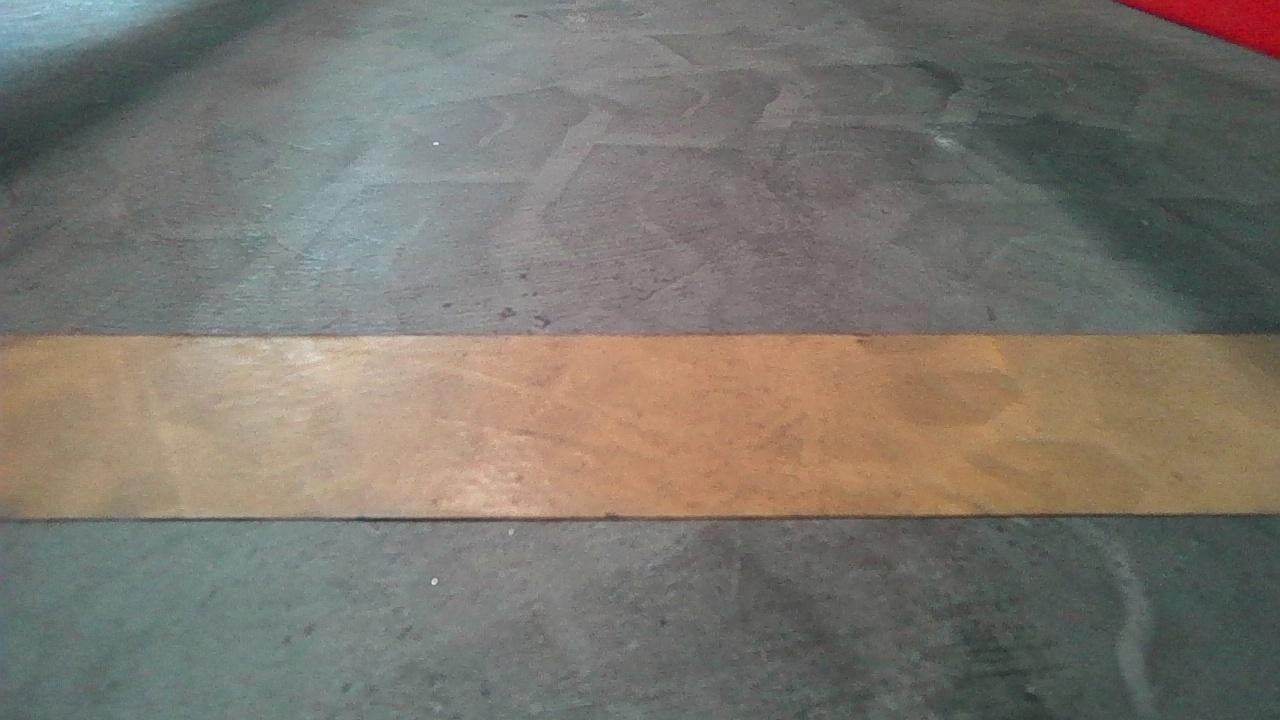yellow_line: (0, 314, 1271, 532)
